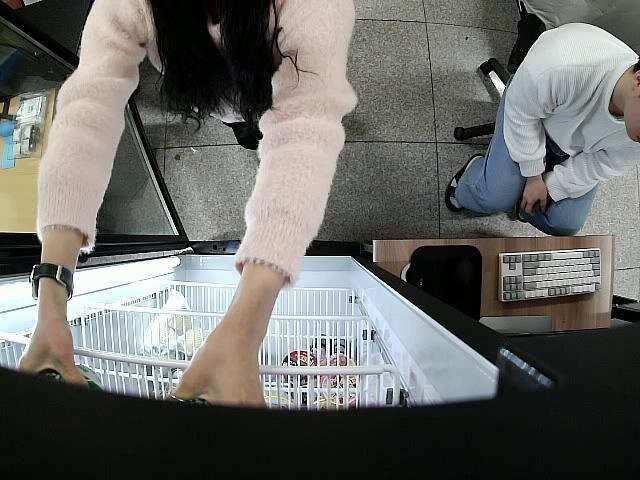12_chilsungCider: (37, 362, 104, 390)
